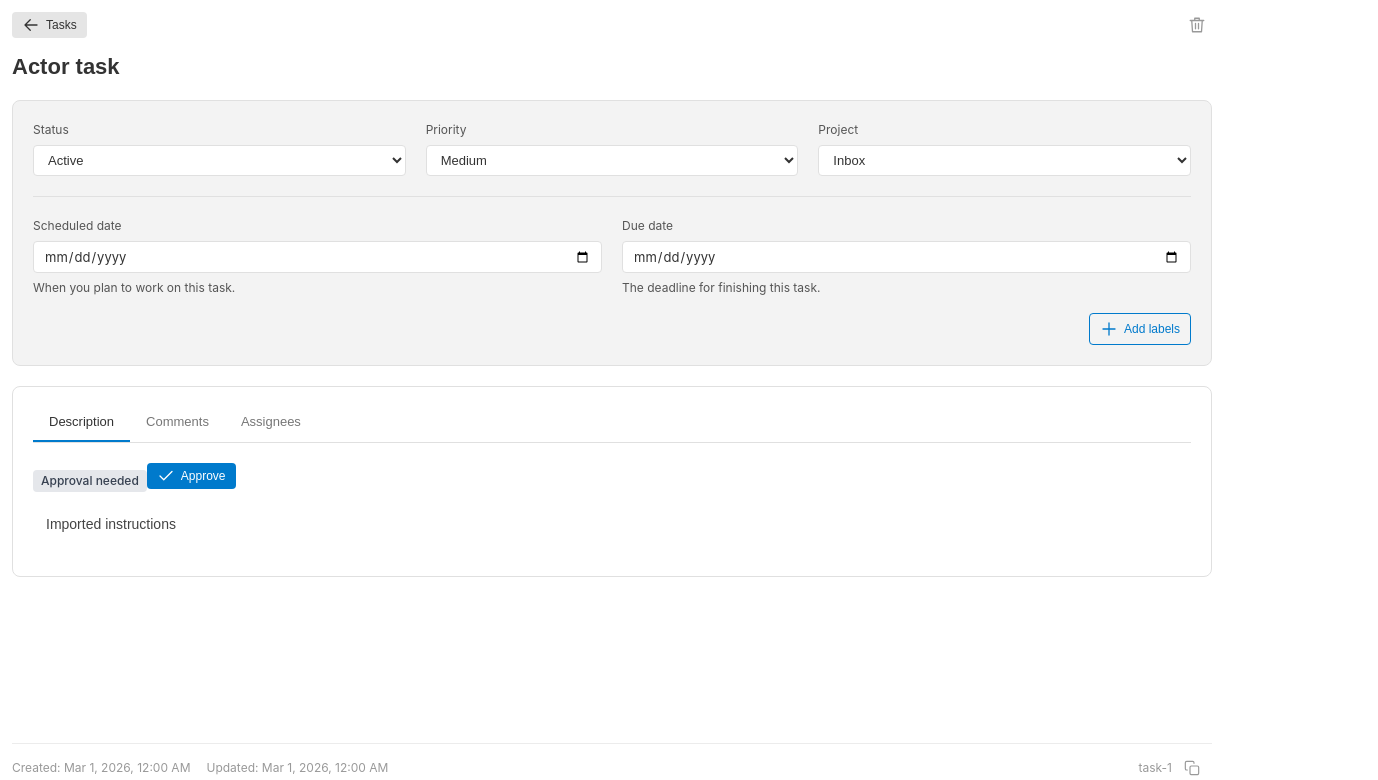
Test: actor-aware renderer views › shows task approval errors visibly in task detail
Click the button "Approve" at point(191, 476), box [147, 463, 236, 489]
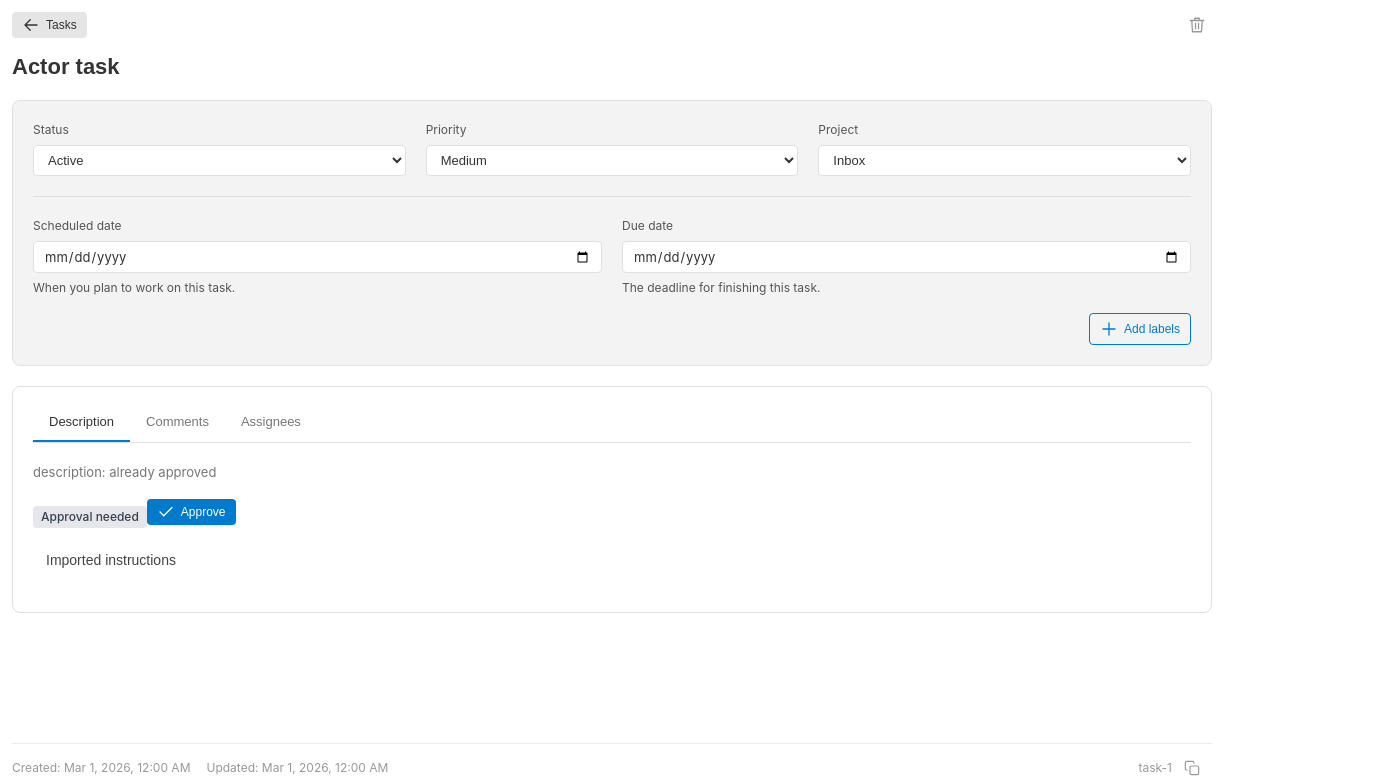
Now the text "description: already approved" is shown, box [33, 464, 216, 480]
